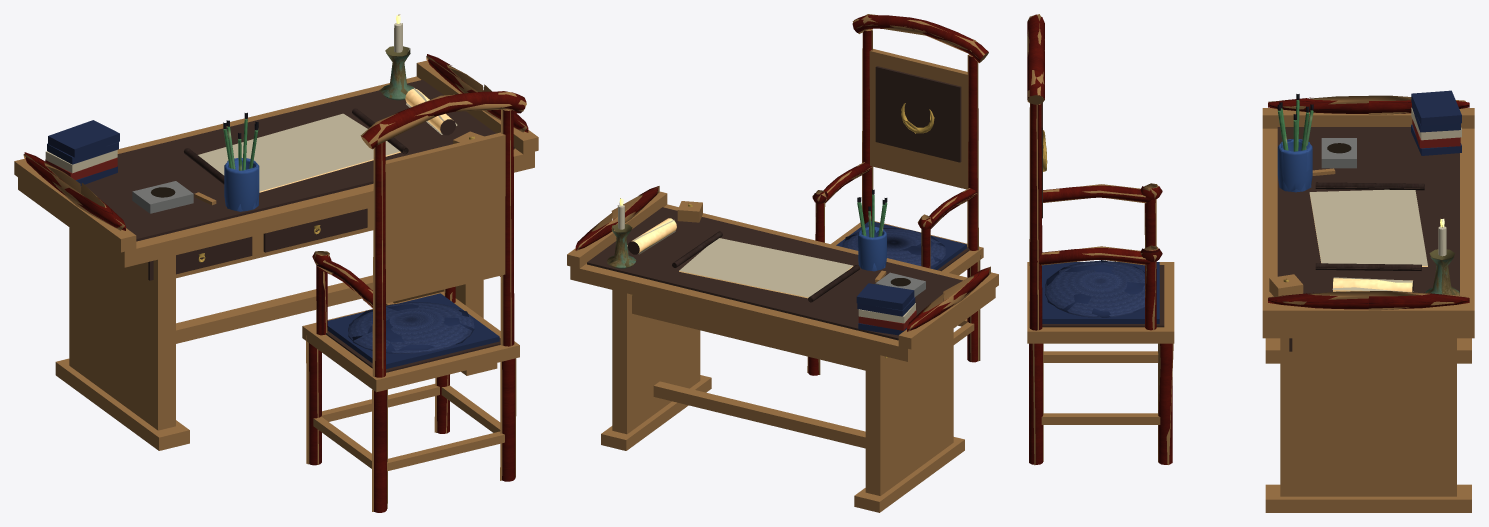
Rendered from prop_writing_desk.gltf.
The picture shows the model from 3 angles, left to right: view 1: azimuth 30°, elevation 25°; view 2: azimuth 150°, elevation 25°; view 3: azimuth 270°, elevation 25°; orthographic projection. The views are drawn at different scales.
Visible parts, largest first — view 1: Far, Near; view 2: Far, Near; view 3: Far, Near.
Part boxes in pixels (x1,y1,x2,y2): Far: (14,14,538,511); Near: (24,15,528,512); Far: (567,14,998,512); Near: (575,15,989,375); Far: (1027,14,1474,512); Near: (1027,14,1469,464).
Size of the model in its own units: 1.64 by 1.48 by 1.52.
16 materials, 9 textured.
